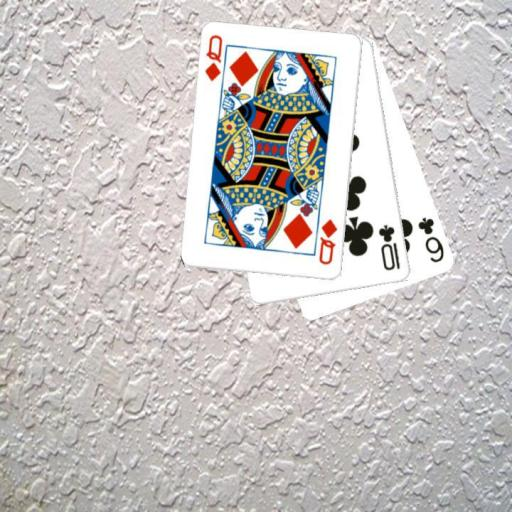10C: (375, 222, 402, 272)
6C: (414, 214, 446, 265)
QD: (316, 216, 339, 267), (202, 32, 225, 83)
